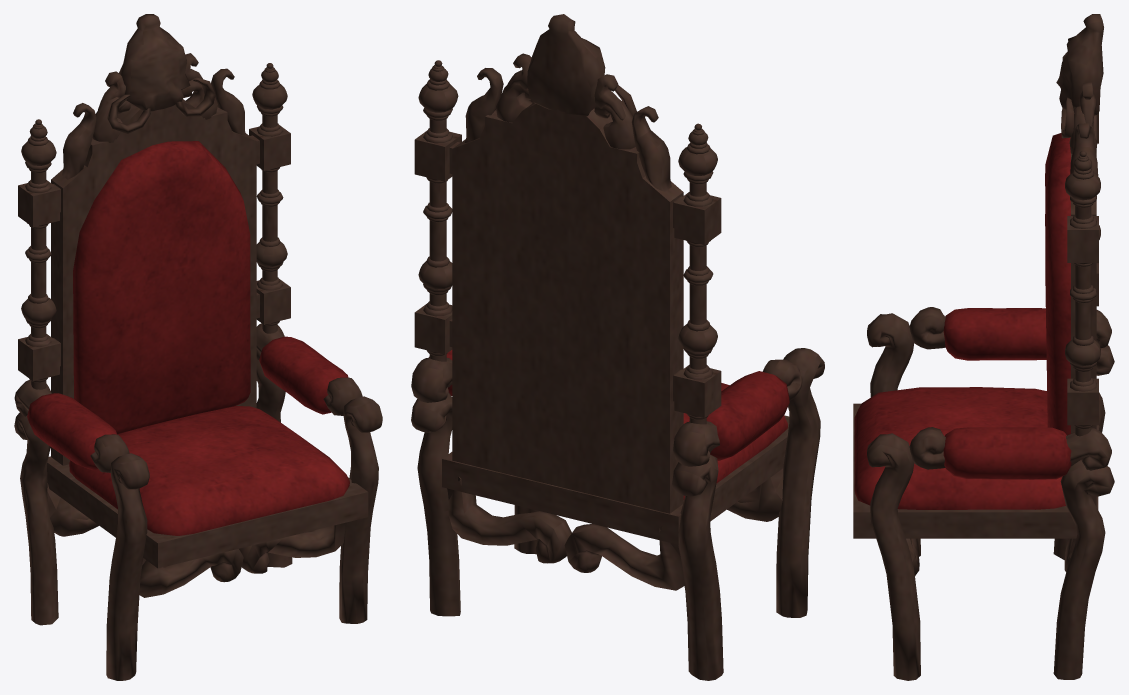
Rendered from throne.glb.
The picture shows the model from 3 angles, left to right: view 1: azimuth 30°, elevation 25°; view 2: azimuth 150°, elevation 25°; view 3: azimuth 270°, elevation 25°; orthographic projection. The views are drawn at different scales.
Parts seen in each view (by area): view 1: Throne; view 2: Throne; view 3: Throne.
Boxes of the visible parts, bbox=[...] form: Throne: bbox=[14, 14, 382, 680]; Throne: bbox=[411, 14, 824, 680]; Throne: bbox=[853, 14, 1114, 680].
Bounding box in the file's own units: 0.8345 × 1.63 × 0.6425.
Materials: 1 (1 with a texture image).
